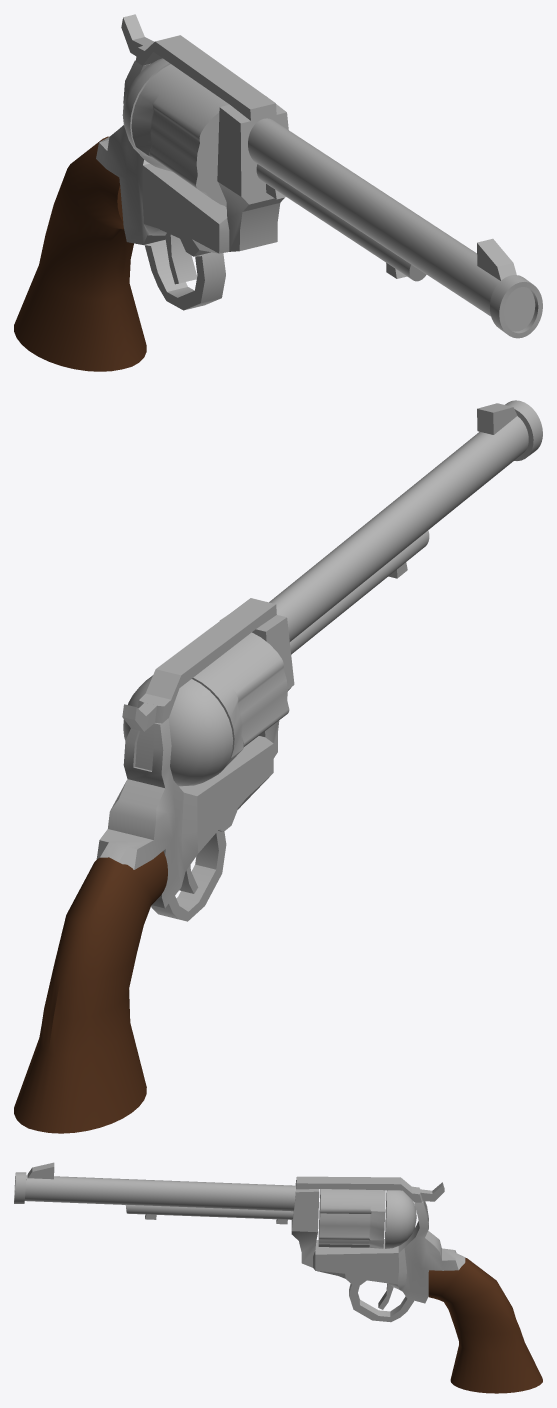
The model's file is RevolverMRHandgun.fbx.
The picture shows the model from 3 angles, top to bottom: view 1: azimuth 30°, elevation 25°; view 2: azimuth 150°, elevation 25°; view 3: azimuth 270°, elevation 25°; orthographic projection. The views are drawn at different scales.
Parts seen in each view (by area): view 1: Cylinder.001, Cylinder, Cube.001; view 2: Cylinder.001, Cylinder; view 3: Cylinder.001, Cylinder.
Boxes of the visible parts, x1,y1,x2,y2 form: Cylinder.001: (14, 35, 542, 371); Cylinder: (122, 58, 229, 206); Cube.001: (121, 14, 154, 56); Cylinder.001: (14, 400, 542, 1133); Cylinder: (123, 632, 289, 786); Cylinder.001: (14, 1162, 542, 1393); Cylinder: (318, 1189, 416, 1248).
Bounding box in the file's own units: 28.2 × 103 × 230.
